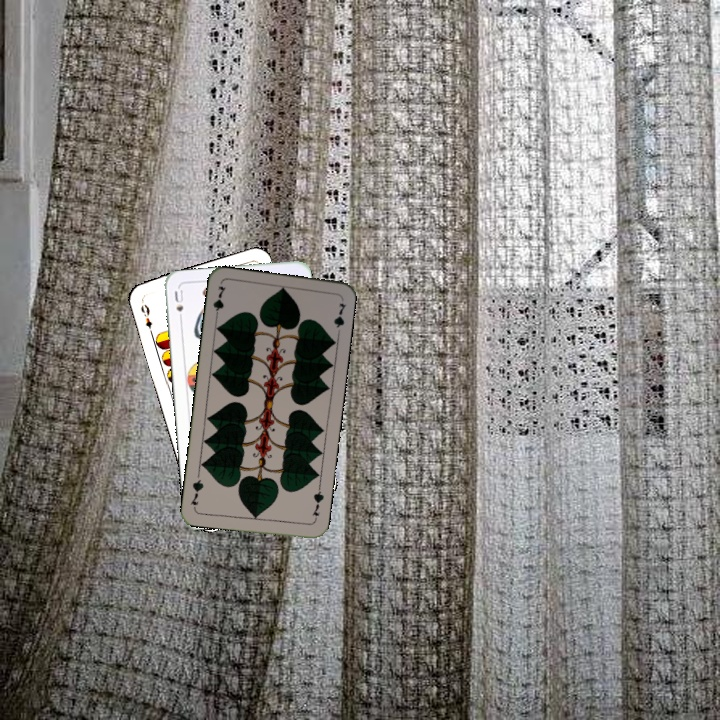E9: (137, 300, 155, 336)
G7: (209, 282, 228, 322), (308, 483, 326, 524)
SU: (171, 286, 186, 326)
